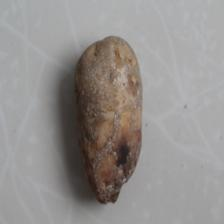Diseased-fungal potato: (75, 34, 143, 208)
